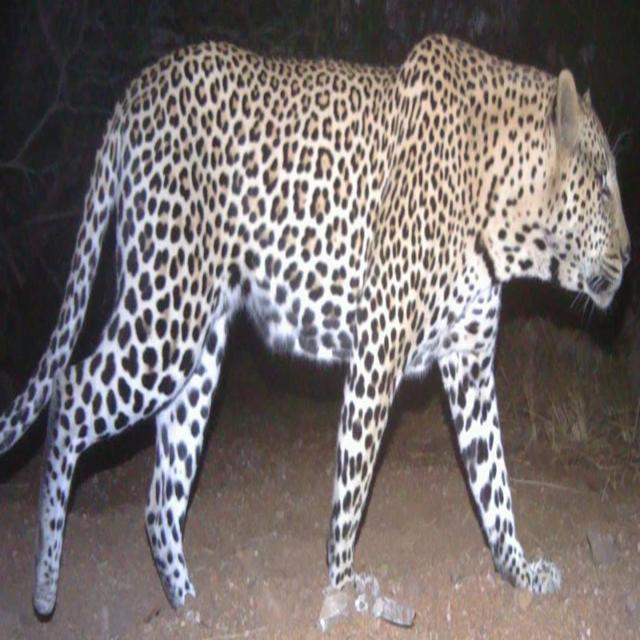Leopard: (0, 16, 634, 640)
